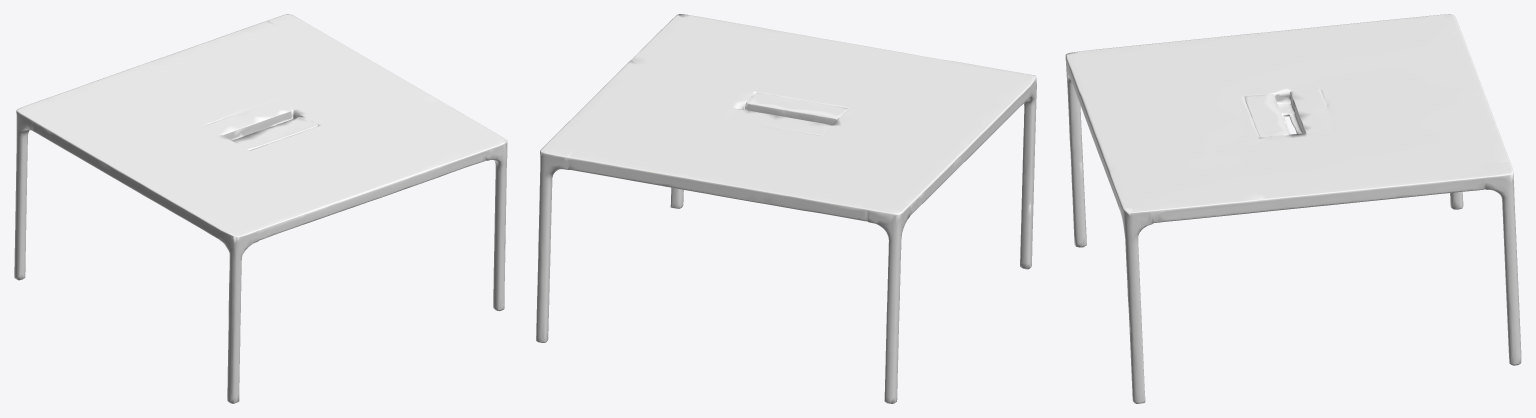
The picture shows the model from 3 angles, left to right: view 1: azimuth 30°, elevation 25°; view 2: azimuth 150°, elevation 25°; view 3: azimuth 270°, elevation 25°; orthographic projection. The views are drawn at different scales.
Parts seen in each view (by area): view 1: node_id5; view 2: node_id5; view 3: node_id5.
Boxes of the visible parts, <box> form: node_id5: <box>14,14,507,403</box>; node_id5: <box>536,14,1036,403</box>; node_id5: <box>1065,14,1521,403</box>.
Bounding box in the file's own units: 0.4971 × 0.255 × 0.5052.
1 material, 1 textured.
